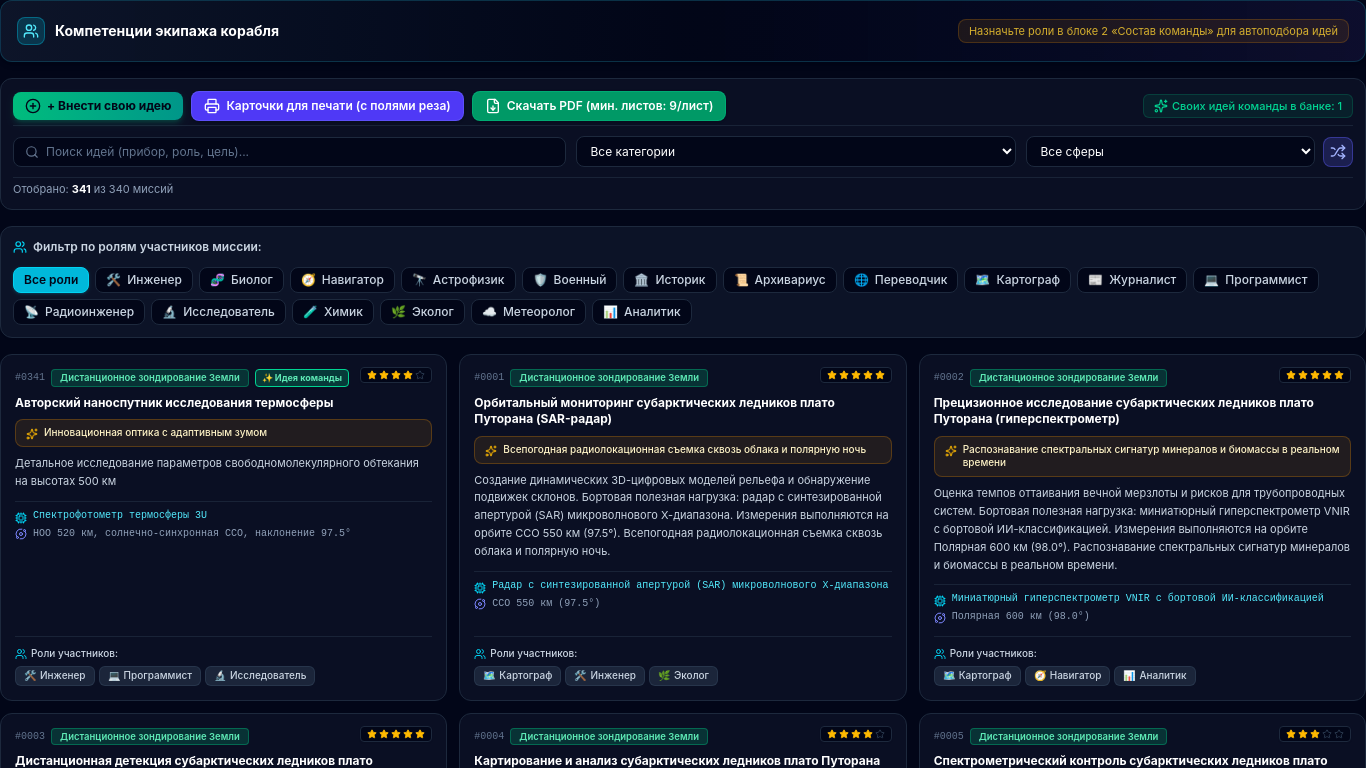
CubeSatIdeasCatalog component › opens printable cards dialog with crop marks and print options
The image size is (1366, 768).
Click the button "Карточки для печати (с полями реза)" at (328, 106), box x1=191 y1=91 x2=464 y2=121
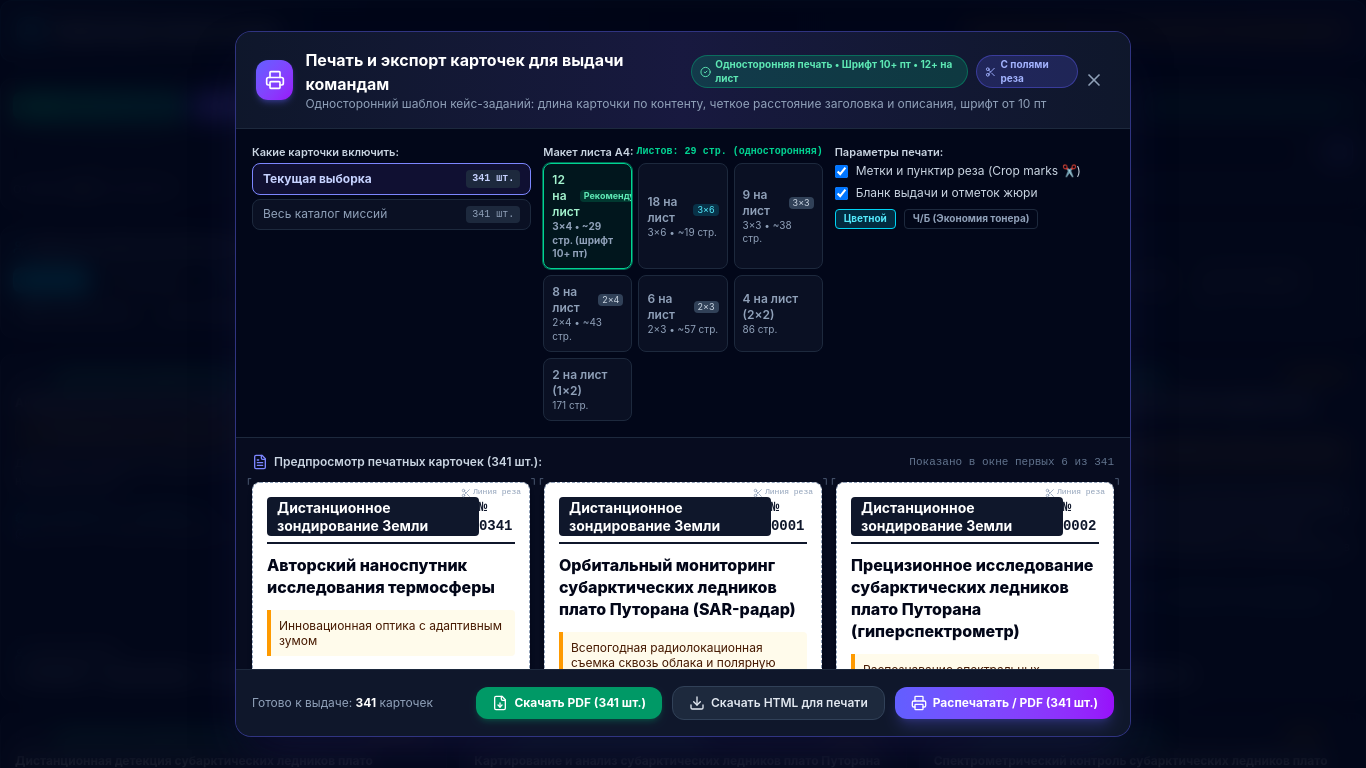
Result: the heading "Печать и экспорт карточек для выдачи командам" is shown at x1=305 y1=50 x2=624 y2=94
Result: the text "Метки и пунктир реза (Crop marks ✂)" is shown at x1=856 y1=163 x2=1081 y2=179
Result: the text "Скачать HTML для печати" is shown at x1=711 y1=695 x2=868 y2=711
